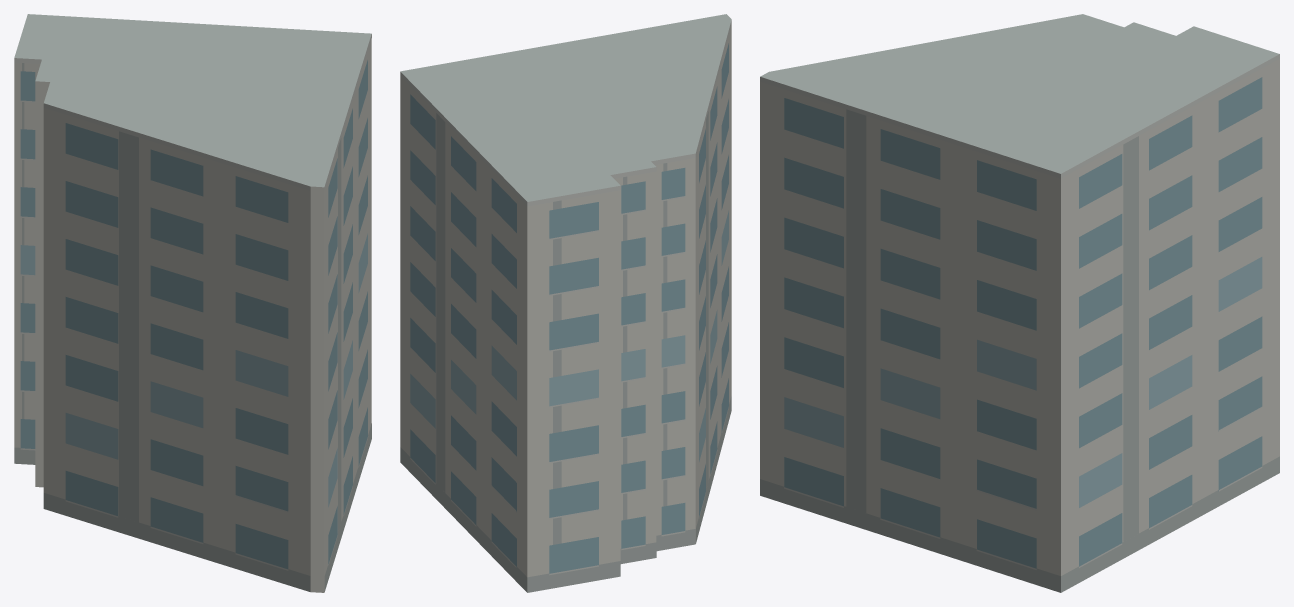
The model's file is survey-upis-32862910.glb.
The picture shows the model from 3 angles, left to right: view 1: azimuth 30°, elevation 25°; view 2: azimuth 150°, elevation 25°; view 3: azimuth 270°, elevation 25°; orthographic projection. The views are drawn at different scales.
Parts seen in each view (by area): view 1: survey-upis-32862910.tmp; view 2: survey-upis-32862910.tmp; view 3: survey-upis-32862910.tmp.
Boxes of the visible parts, x1,y1,x2,y2 form: survey-upis-32862910.tmp: (14, 14, 371, 592); survey-upis-32862910.tmp: (400, 14, 731, 592); survey-upis-32862910.tmp: (760, 14, 1279, 592).
Bounding box in the file's own units: 17.83 × 21.77 × 24.49.
